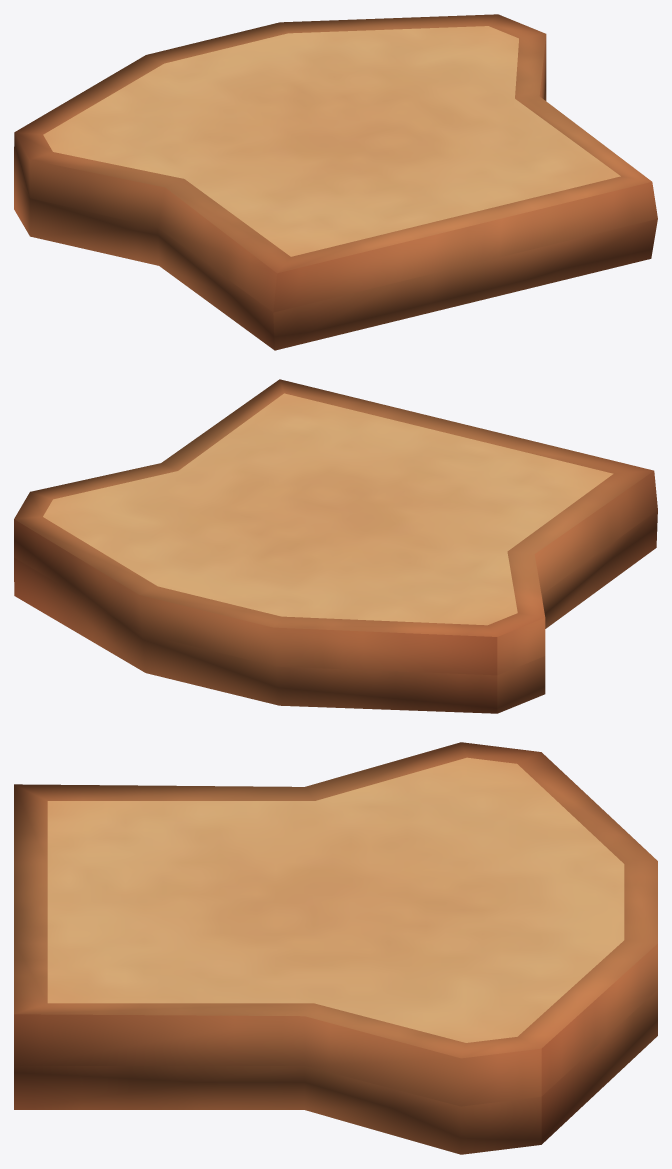
The model's file is Slice Of Bread.FBX.
3 renders of one model, top to bottom at view 1: azimuth 30°, elevation 25°; view 2: azimuth 150°, elevation 25°; view 3: azimuth 270°, elevation 25°, orthographic. The views are drawn at different scales.
Visible parts, largest first — view 1: Slice Of Bread; view 2: Slice Of Bread; view 3: Slice Of Bread.
Part boxes in pixels (left/top/right/bottom): Slice Of Bread: left=14, top=14, right=657, bottom=350; Slice Of Bread: left=14, top=379, right=657, bottom=713; Slice Of Bread: left=14, top=742, right=657, bottom=1154.
Size of the model in its own units: 66.69 by 9.48 by 57.4.
